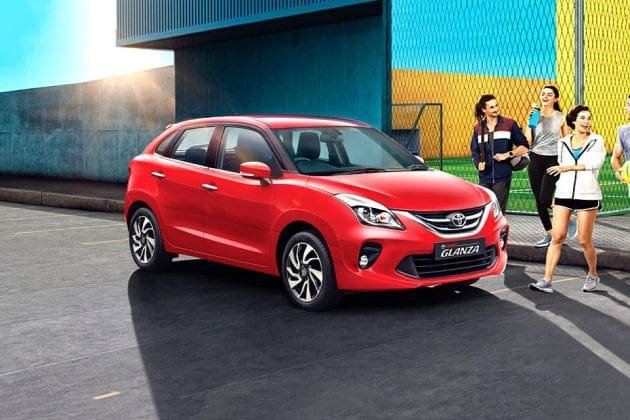car: (116, 109, 512, 292)
